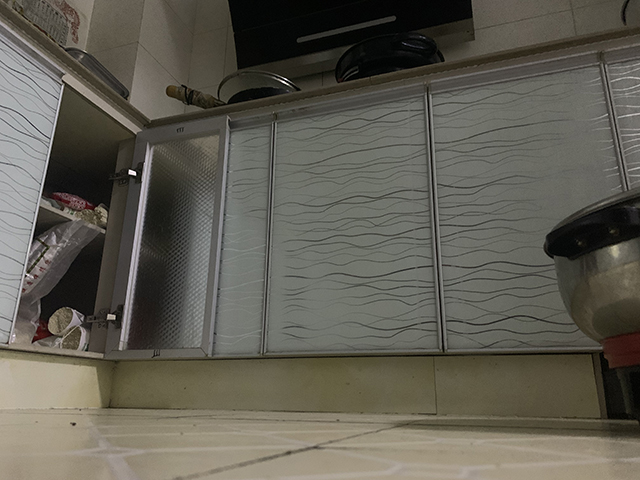cabinet: (215, 41, 548, 425)
